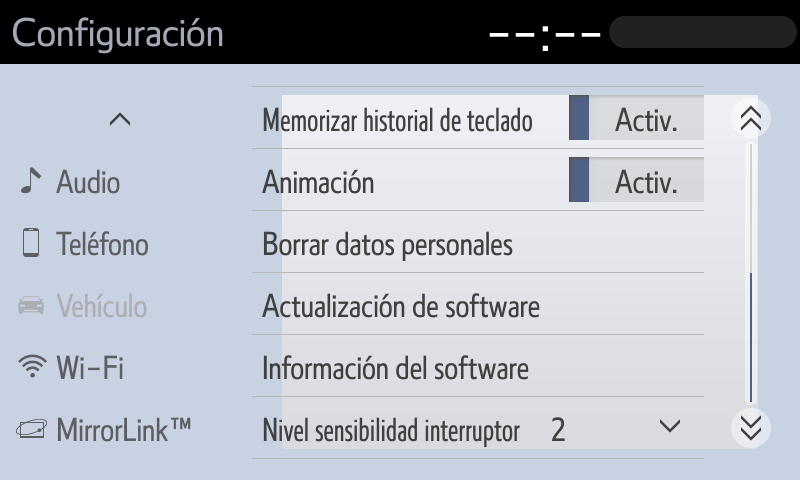touchPart: (244, 144, 708, 219), (242, 206, 709, 280), (246, 83, 708, 156), (241, 269, 708, 340), (241, 330, 711, 399), (245, 393, 712, 455), (9, 405, 206, 451), (16, 339, 132, 392), (18, 225, 156, 266), (23, 161, 127, 205), (735, 409, 778, 450), (733, 96, 774, 137), (107, 108, 138, 133)
untouchPart: (474, 16, 799, 51), (9, 6, 225, 56), (14, 288, 157, 328)
